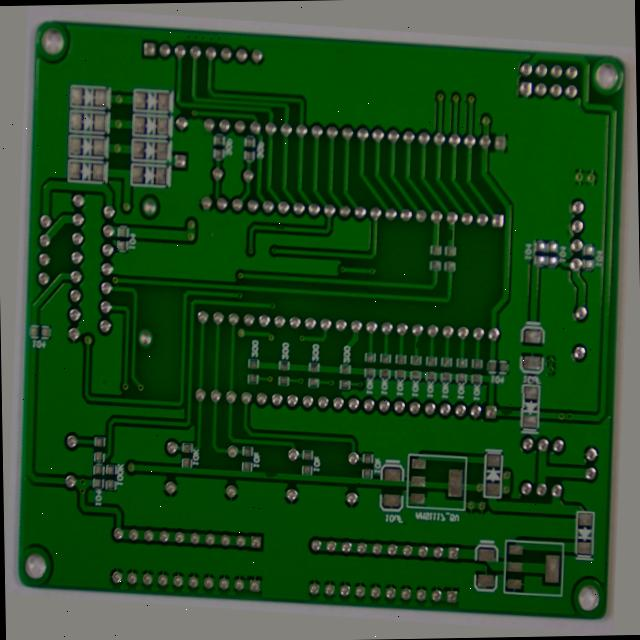mouse_bite: (445, 204, 460, 225), (512, 392, 530, 408), (268, 484, 287, 499), (264, 217, 281, 230), (419, 330, 428, 343)
